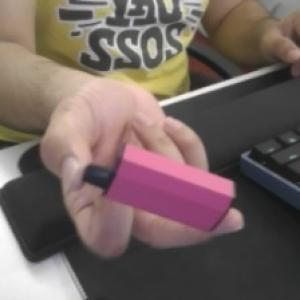Blume-E-Ciggirate: (80, 146, 241, 236)
